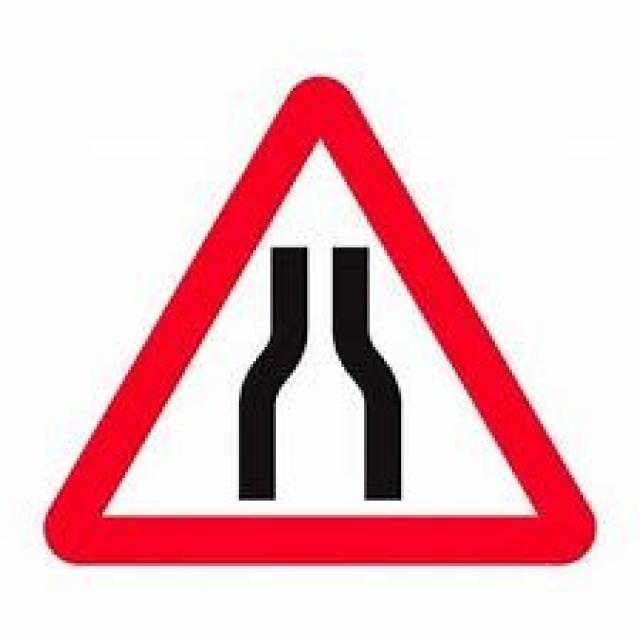narrow road ahead: (44, 74, 598, 567)
